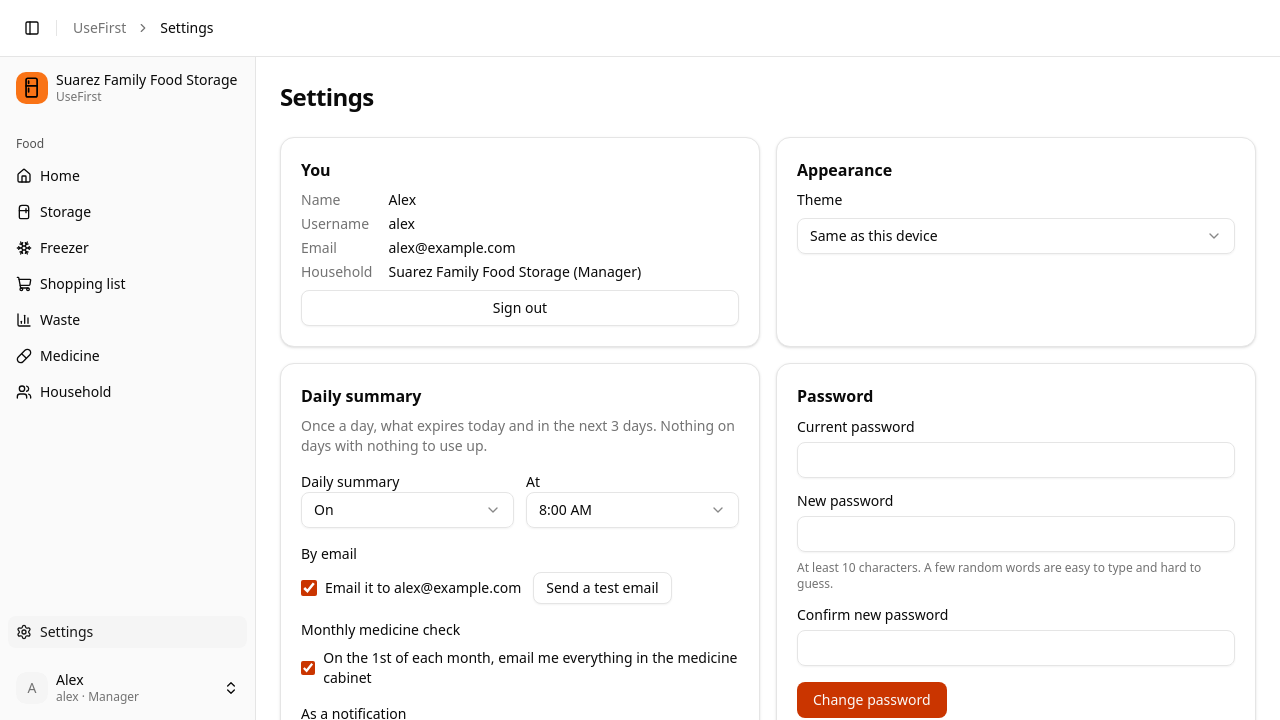
Notifications settings › emails the summary, turns email off, and sends a test email
The width and height of the screenshot is (1280, 720).
Click the checkbox labelled "Email it to alex@example.com" at {"x": 309, "y": 588}, box [301,580,317,596]
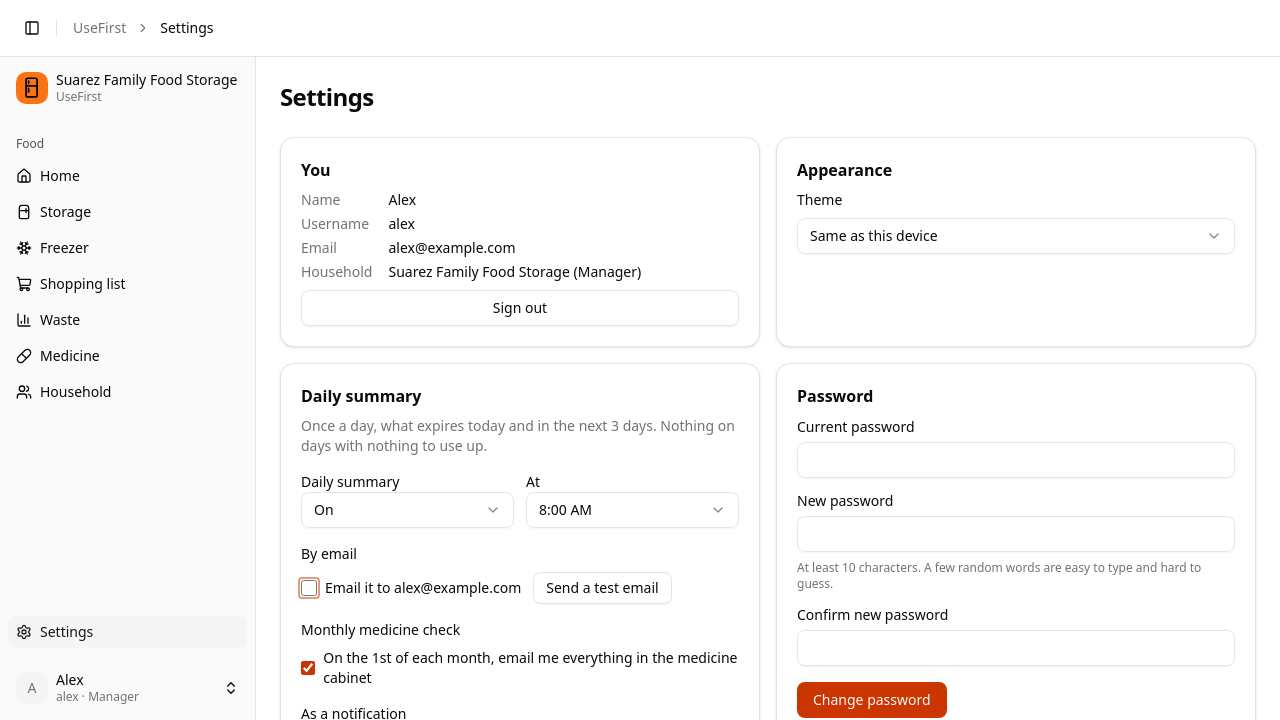
Click the button "Send a test email" at {"x": 602, "y": 588}, box [533,572,672,604]
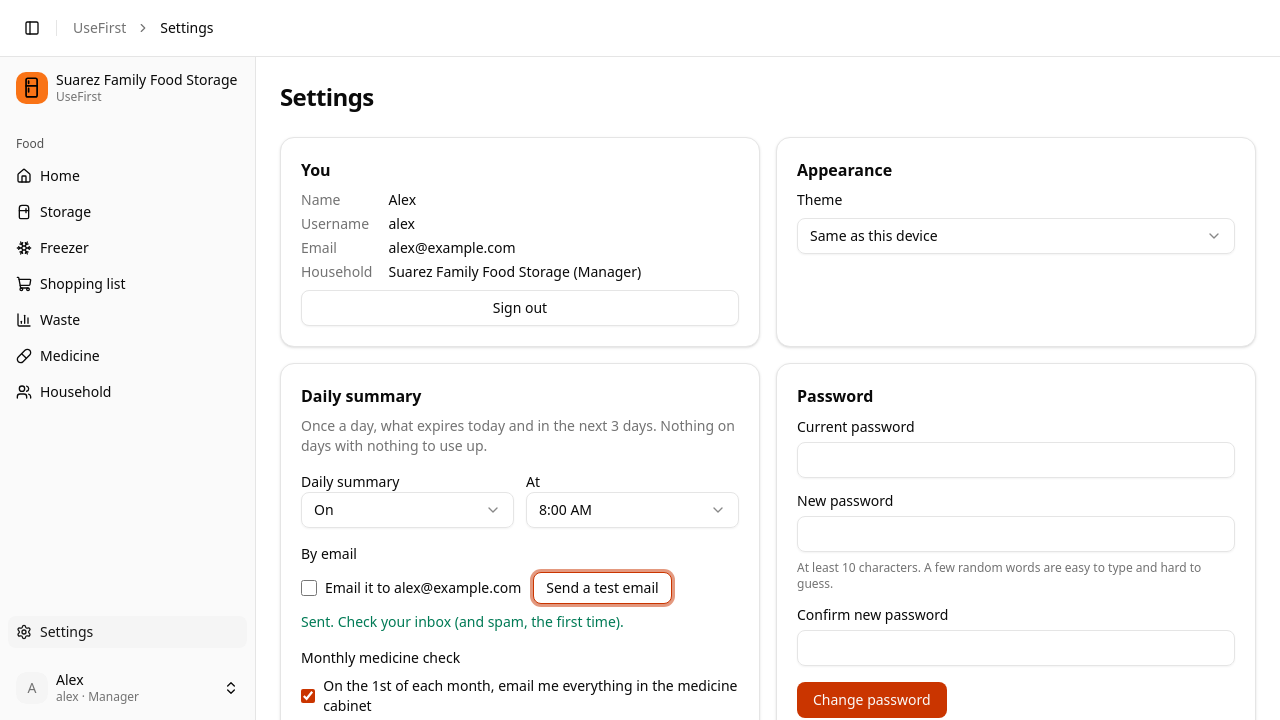
Expected: the text "alex@example.com" is shown, [388,238,516,257]
Expected: the text "Sent. Check your inbox (and spam, the first time)." is shown, [301,612,624,631]
